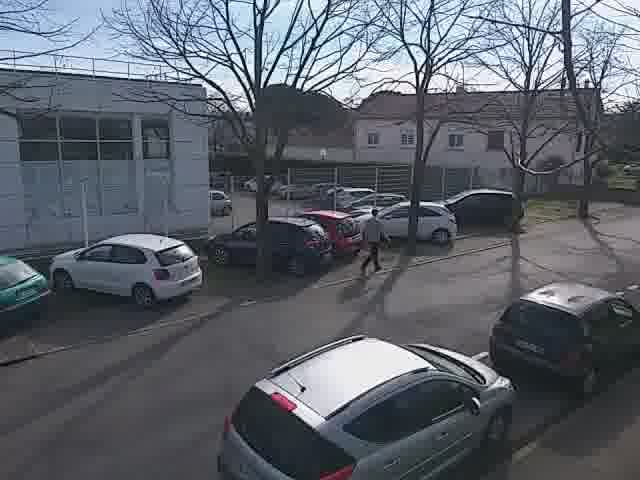persona: (356, 196, 391, 276)
